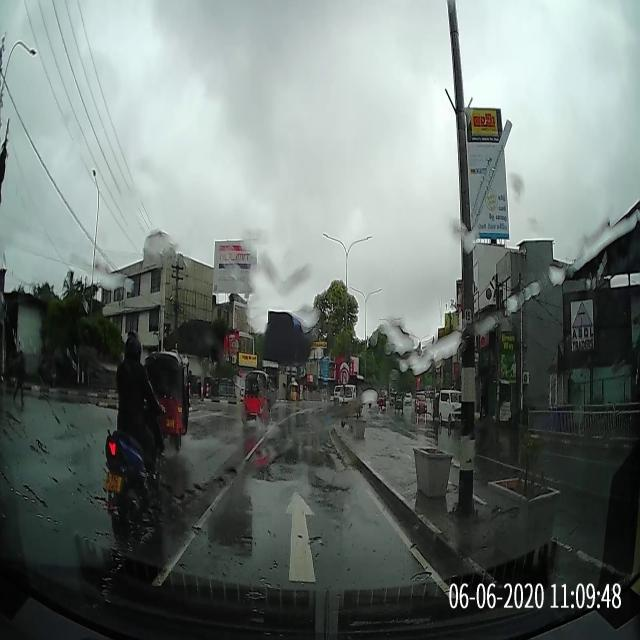forward: (149, 473, 465, 599)
